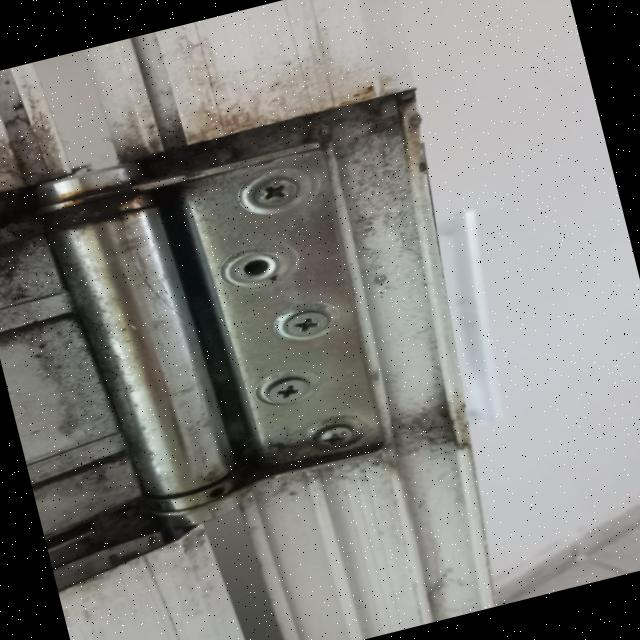Phillips: (278, 302, 339, 346), (244, 172, 308, 212), (302, 418, 359, 455), (265, 373, 309, 402)
